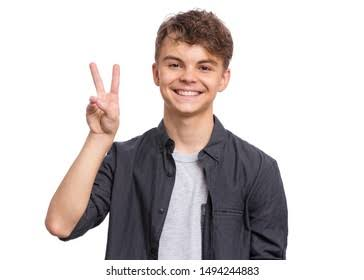peace_sign: (84, 56, 127, 137)
